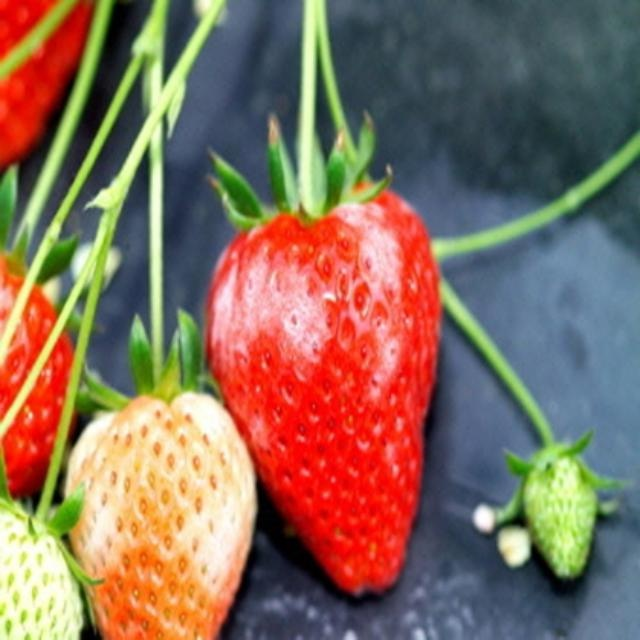Powdery Mildew Fruit: (205, 182, 445, 480)
